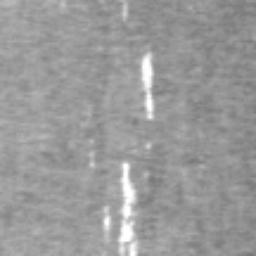White rust: (117, 162, 140, 256), (141, 50, 156, 121), (102, 205, 111, 229), (88, 149, 96, 167), (122, 2, 129, 22), (145, 141, 153, 150)
